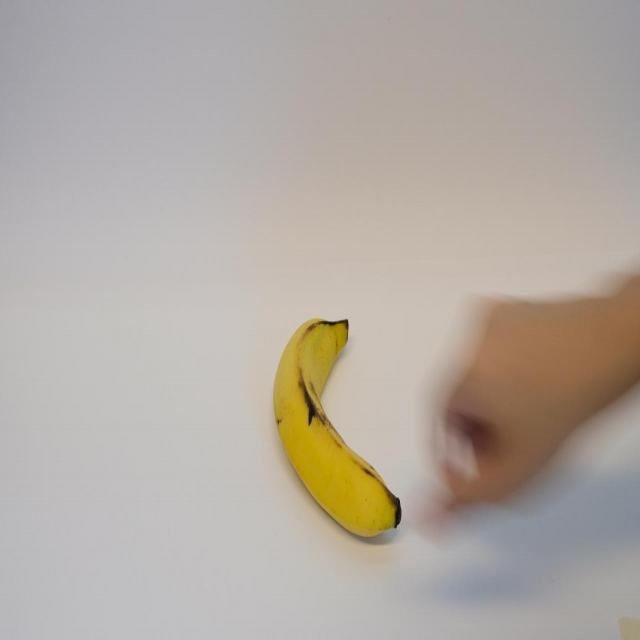banana: (276, 302, 404, 550)
